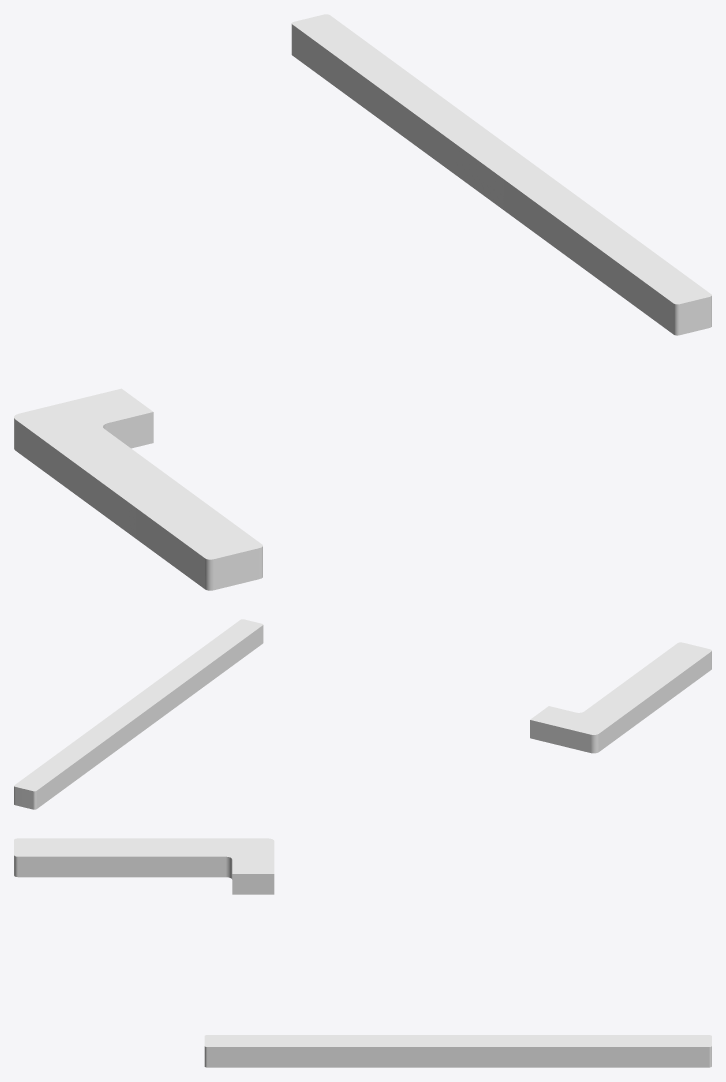
Rendered from halloween_road.fbx.
3 views of the same model, one above another, from view 1: azimuth 30°, elevation 25°; view 2: azimuth 150°, elevation 25°; view 3: azimuth 270°, elevation 25° (orthographic). The views are drawn at different scales.
Parts seen in each view (by area): view 1: duplicated_0220, duplicated_0219; view 2: duplicated_0220, duplicated_0219; view 3: duplicated_0220, duplicated_0219.
Boxes of the visible parts, x1,y1,x2,y2 form: duplicated_0220: (291, 14, 711, 335); duplicated_0219: (14, 388, 262, 590); duplicated_0220: (14, 619, 263, 809); duplicated_0219: (530, 642, 711, 753); duplicated_0220: (204, 1035, 711, 1067); duplicated_0219: (14, 838, 274, 894).
Bounding box in the file's own units: 52.89 × 2.42 × 74.75.
